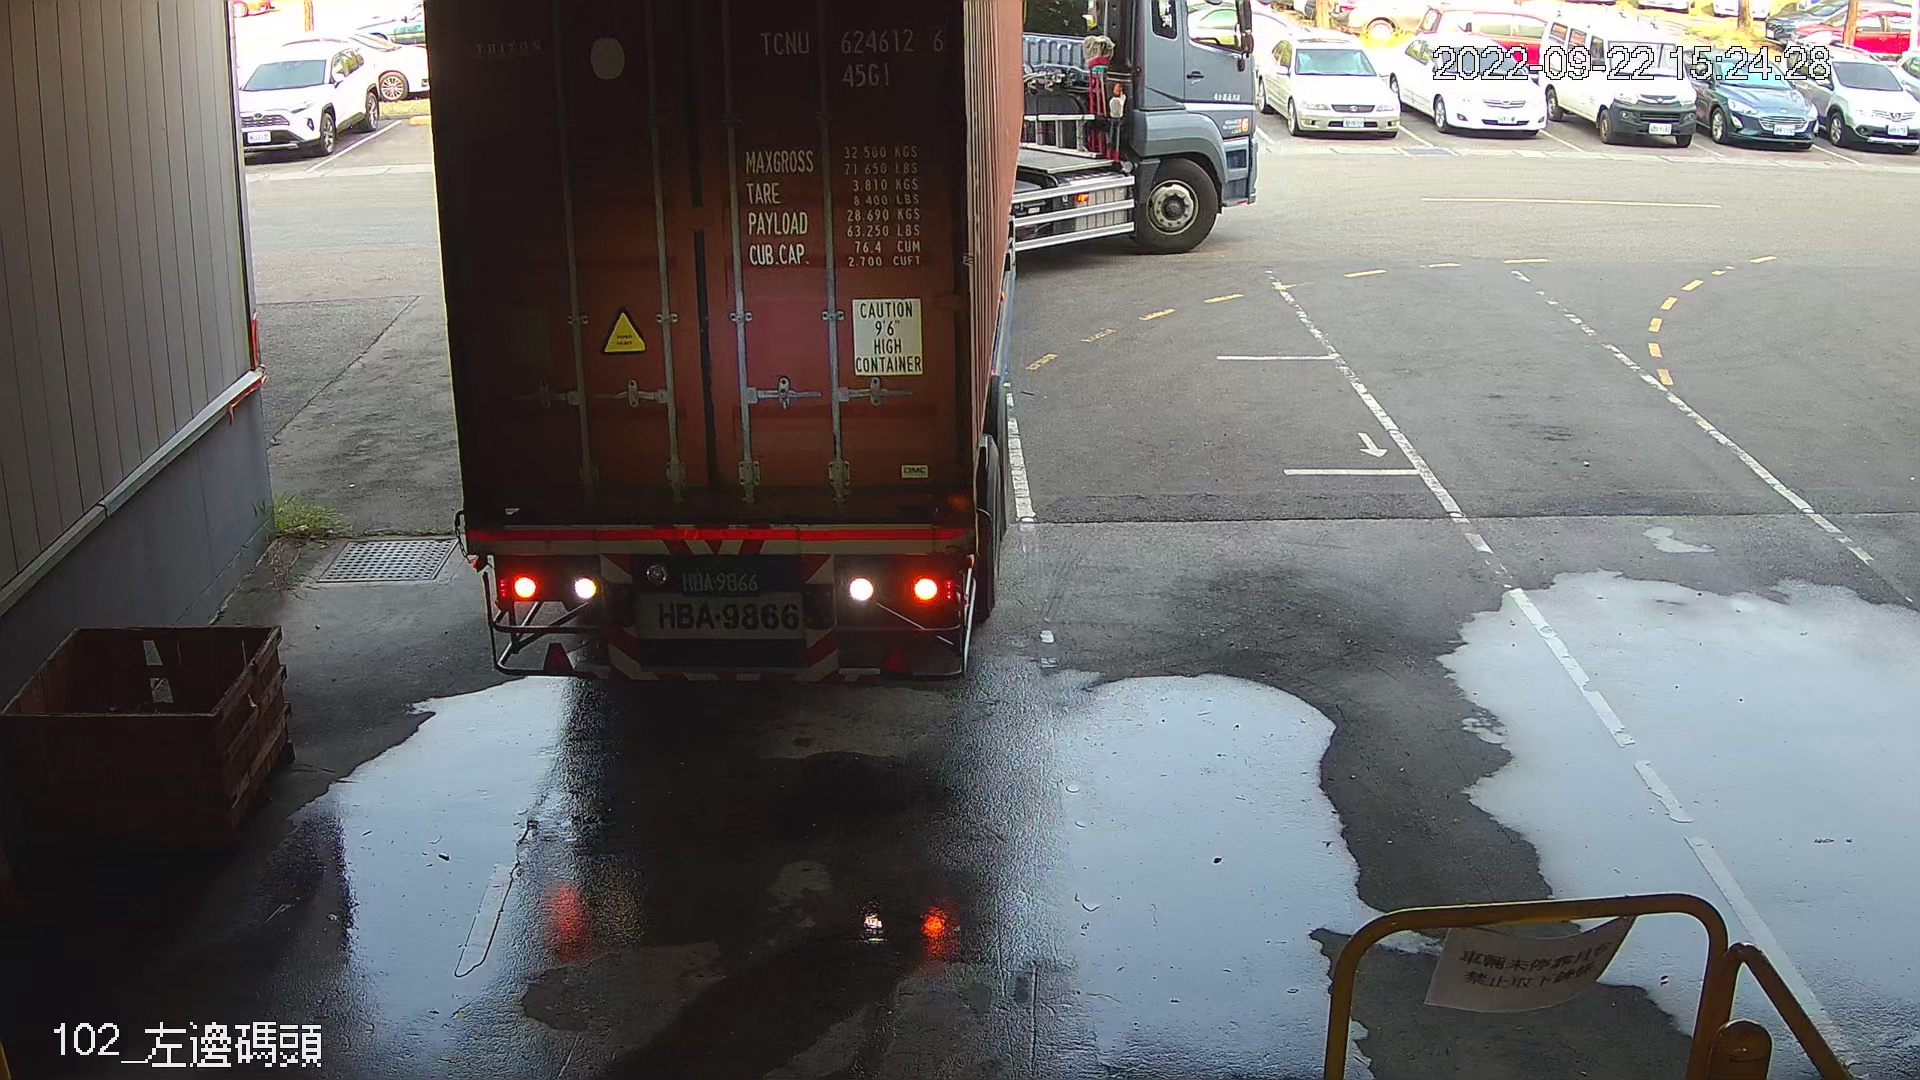container: (748, 22, 953, 95)
